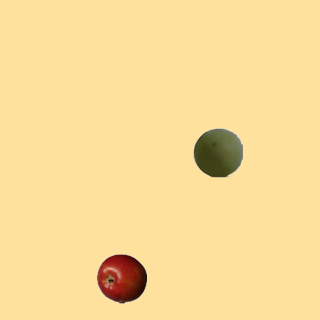Apple Braeburn: (96, 253, 146, 303)
Grape White 4: (192, 127, 242, 177)
